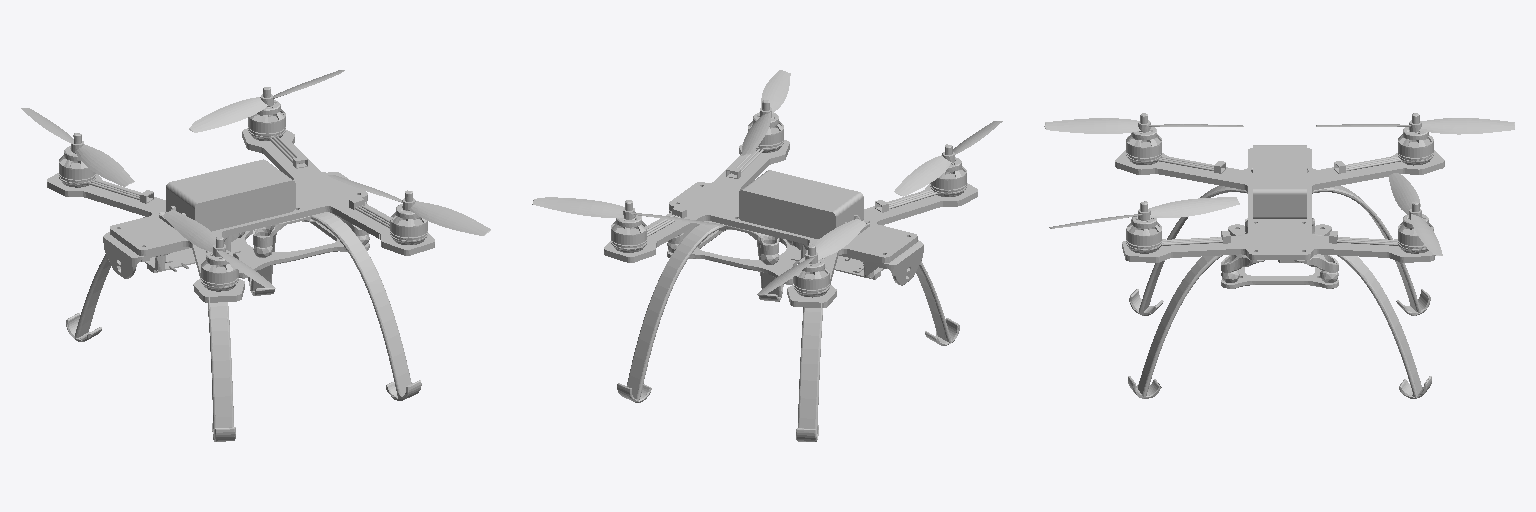
URDF robot description (ddk):
<?xml version="1.0"?>
<!--
/****************************************************************************
 *   Copyright (c) 2018 [author]. All rights reserved.
 *
 * Redistribution and use in source and binary forms, with or without
 * modification, are permitted provided that the following conditions
 * are met:
 *
 * 1. Redistributions of source code must retain the above copyright
 *    notice, this list of conditions and the following disclaimer.
 * 2. Redistributions in binary form must reproduce the above copyright
 *    notice, this list of conditions and the following disclaimer in
 *    the documentation and/or other materials provided with the
 *    distribution.
 * 3. Neither the name ATLFlight nor the names of its contributors may be
 *    used to endorse or promote products derived from this software
 *    without specific prior written permission.
 *
 * NO EXPRESS OR IMPLIED LICENSES TO ANY PARTY'S PATENT RIGHTS ARE GRANTED BY THIS LICENSE.
 * THIS SOFTWARE IS PROVIDED BY THE COPYRIGHT [author]
 * "AS IS" AND ANY EXPRESS OR IMPLIED WARRANTIES, INCLUDING, BUT NOT
 * LIMITED TO, THE IMPLIED WARRANTIES OF MERCHANTABILITY AND FITNESS
 * FOR A PARTICULAR PURPOSE ARE DISCLAIMED. IN NO EVENT SHALL THE
 * COPYRIGHT [author] LIABLE FOR ANY DIRECT, INDIRECT,
 * INCIDENTAL, SPECIAL, EXEMPLARY, OR CONSEQUENTIAL DAMAGES (INCLUDING,
 * BUT NOT LIMITED TO, PROCUREMENT OF SUBSTITUTE GOODS OR SERVICES; LOSS
 * OF USE, DATA, OR PROFITS; OR BUSINESS INTERRUPTION) HOWEVER CAUSED
 * AND ON ANY THEORY OF LIABILITY, WHETHER IN CONTRACT, STRICT
 * LIABILITY, OR TORT (INCLUDING NEGLIGENCE OR OTHERWISE) ARISING IN
 * ANY WAY OUT OF THE USE OF THIS SOFTWARE, EVEN IF ADVISED OF THE
 * POSSIBILITY OF SUCH DAMAGE.
 *
 * In addition Supplemental Terms apply.  See the SUPPLEMENTAL file.
 ****************************************************************************/
-->
<robot name="ddk">
  <link name="base_link">
    <visual>
      <geometry>
        <mesh filename="package://qflight_descriptions/meshes/ddk_tray.stl"/>
      </geometry>
      <origin rpy="1.57079632679 0 -1.57079632679" xyz="0 0 -0.004"/>
      <material name="white">
        <color rgba="0.8 0.8 0.8 1"/>
      </material>
    </visual>
  </link>
</robot>

--- Render facts (derived) ---
Views: 3 orthographic renders of the robot side by side, from view 1: azimuth 30°, elevation 25°; view 2: azimuth 150°, elevation 25°; view 3: azimuth 270°, elevation 25°.
Robot: ddk — 1 links, 0 joints (none); root link base_link; default pose: every joint at zero.
Links seen in each view (by area): view 1: base_link; view 2: base_link; view 3: base_link.
Link boxes in pixels (<box>): base_link: <box>21,70,490,441</box>; base_link: <box>532,70,1002,441</box>; base_link: <box>1044,113,1514,398</box>.
Size in the robot's own frame: 0.2174 by 0.2999 by 0.1372 metres.
1 mesh visuals loaded from 1 distinct referenced files (1 binary STL).